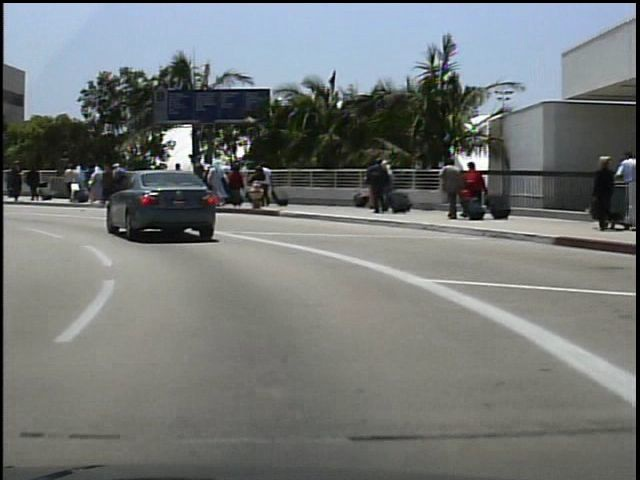person: (586, 153, 617, 230), (613, 148, 640, 230), (437, 157, 464, 224), (361, 157, 390, 217), (458, 160, 482, 219), (22, 162, 46, 207), (8, 157, 27, 202), (258, 159, 275, 203), (8, 164, 25, 202)
